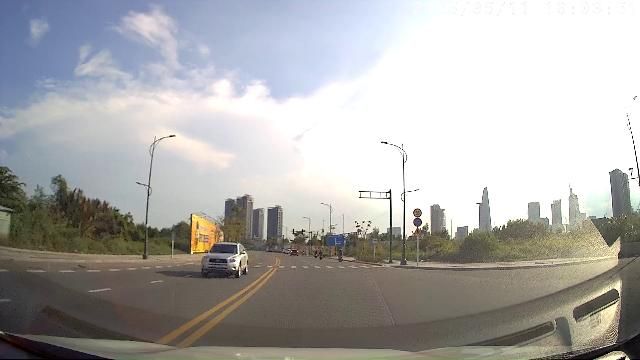127-toc-do-toi-da-50: (414, 209, 422, 217)
